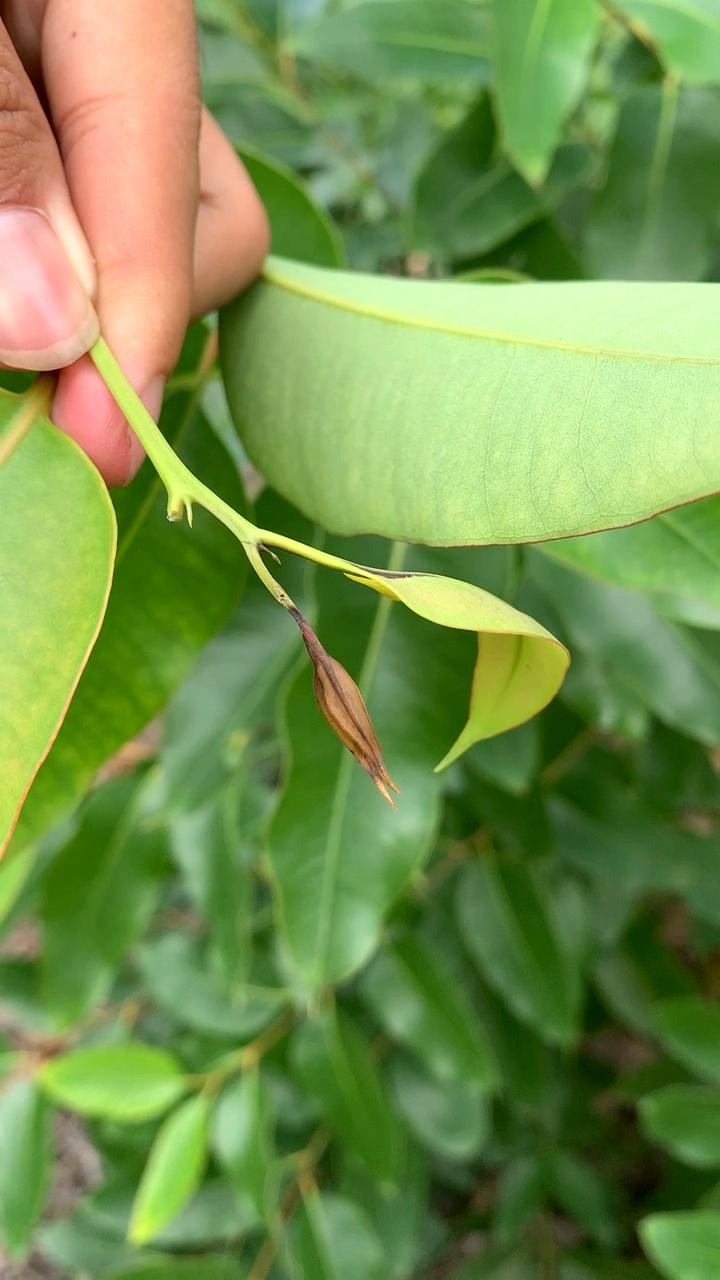Helopeltis-Withered Sprout: (261, 600, 421, 807)
